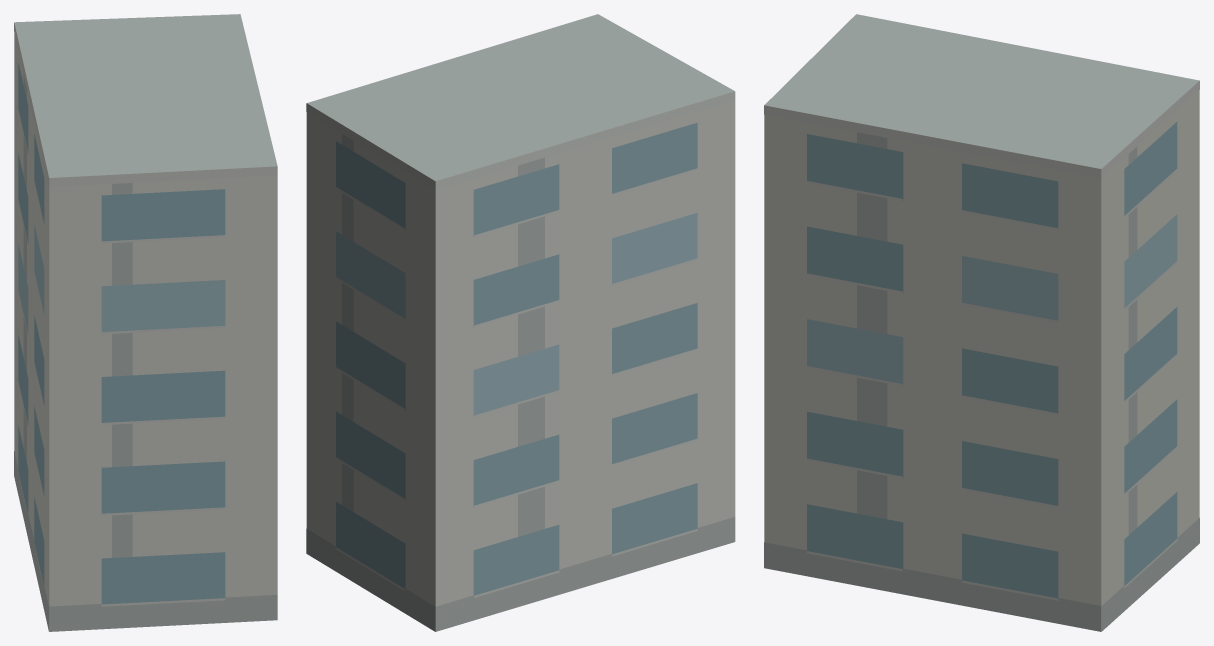
Rendered from survey-upis-32725447.glb.
3 views of the same model, side by side, from view 1: azimuth 30°, elevation 25°; view 2: azimuth 150°, elevation 25°; view 3: azimuth 270°, elevation 25° (orthographic). The views are drawn at different scales.
Visible parts, largest first — view 1: survey-upis-32725447.tmp; view 2: survey-upis-32725447.tmp; view 3: survey-upis-32725447.tmp.
Boxes of the visible parts, x1,y1,x2,y2 form: survey-upis-32725447.tmp: (14,14,277,631); survey-upis-32725447.tmp: (306,14,735,631); survey-upis-32725447.tmp: (764,14,1199,631).
Bounding box in the file's own units: 8.7 × 12.1 × 10.33.
